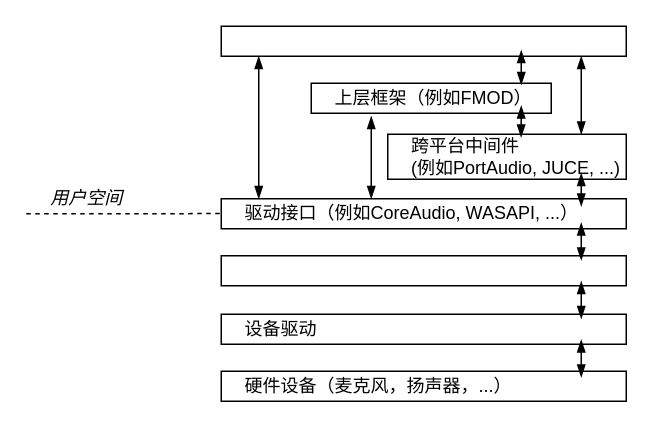
Some shapes in this 653 by 428 pixel diagram are drawn without their labels. The centre of each missing label's shape, as x and y in pixels:
应用软件（节拍跟踪系统）: [423,40]
操作系统（Windows, Linux, macOS, ...）: [423,270]
